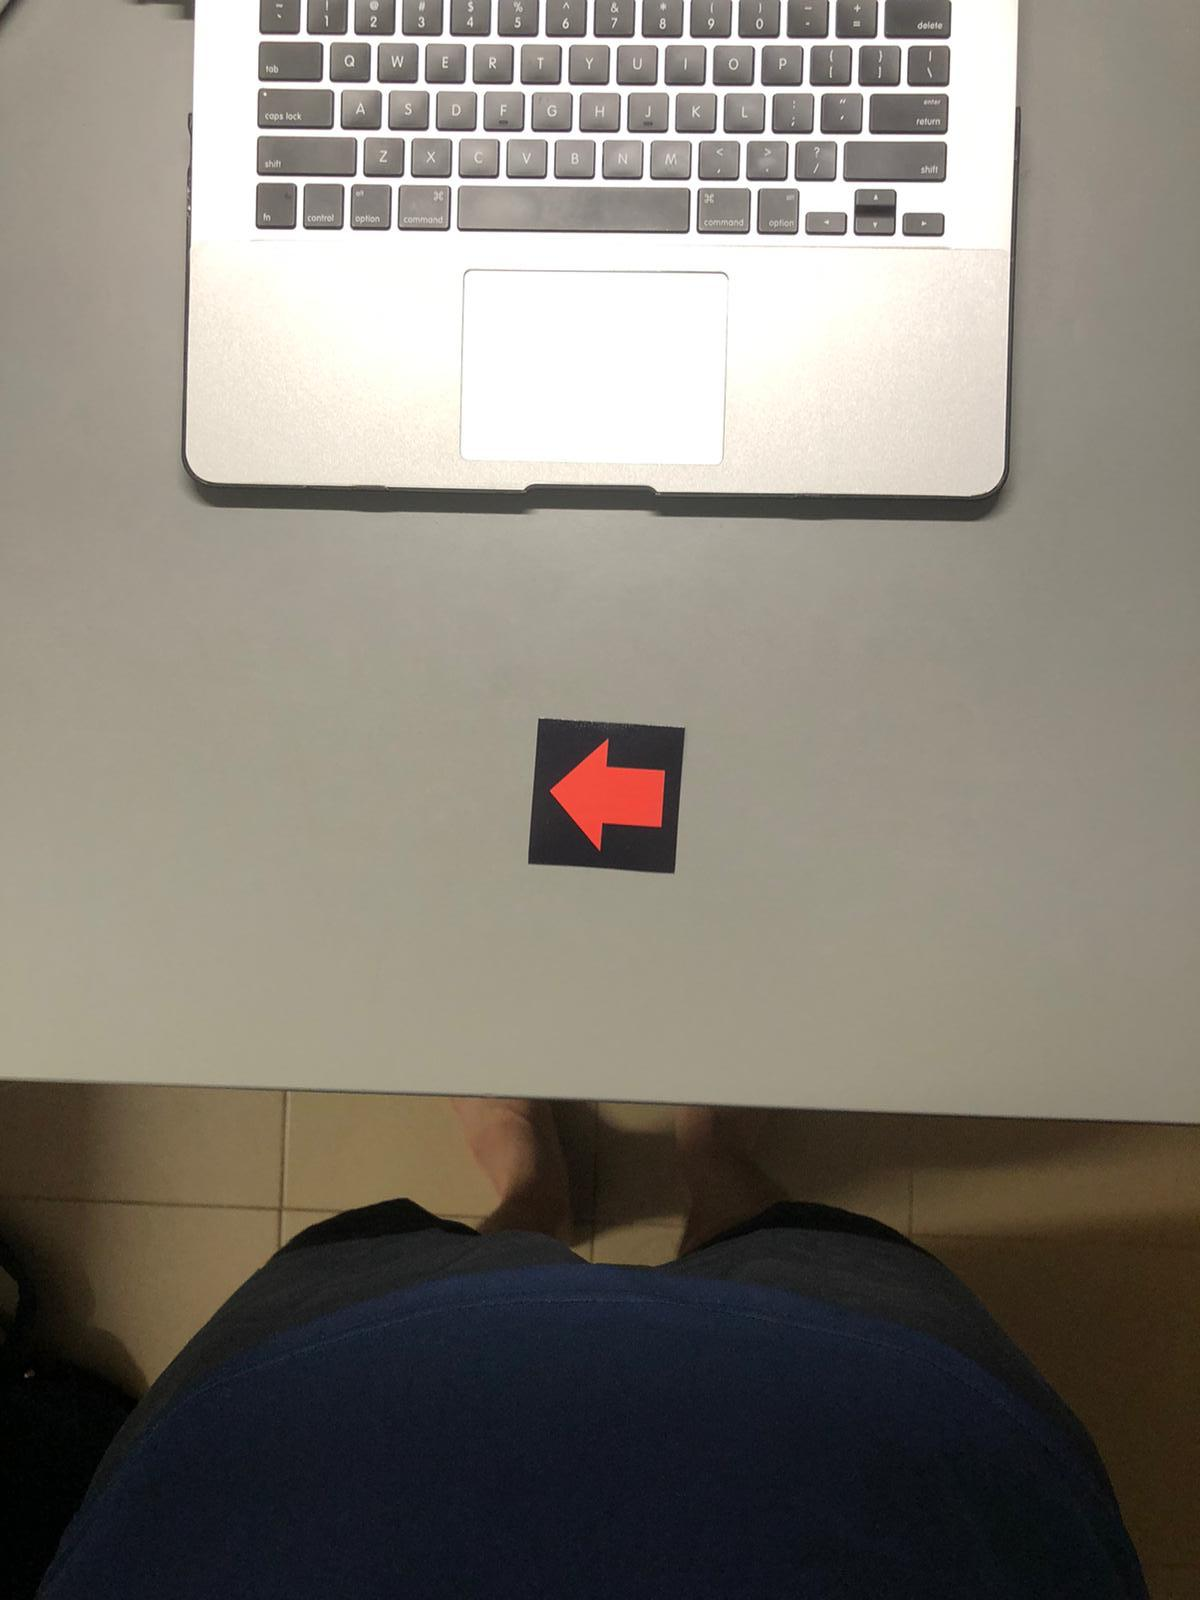Left Arrow: (539, 722, 677, 867)
